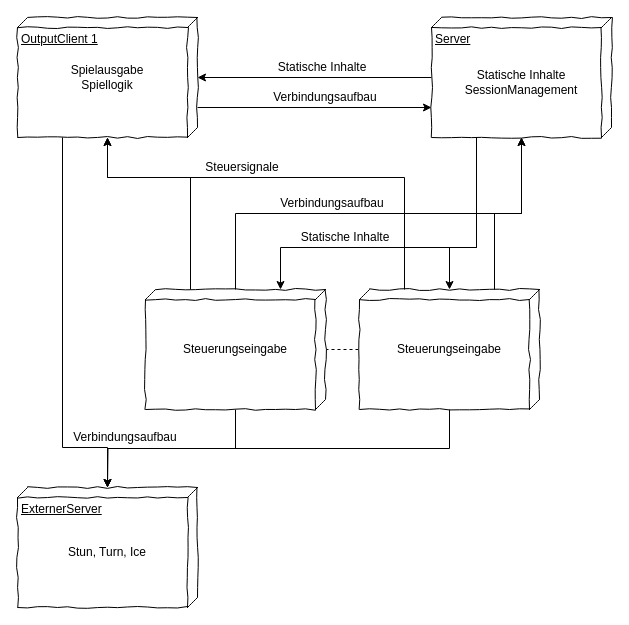
Some shapes in this 629 by 625 pixel diagram are drawn without their labels. Here are the shapes that lost their labels. From the top down, the box of each, then its label:
(144, 288, 326, 410): ControlClient 1
(358, 288, 540, 410): ControlClient N
